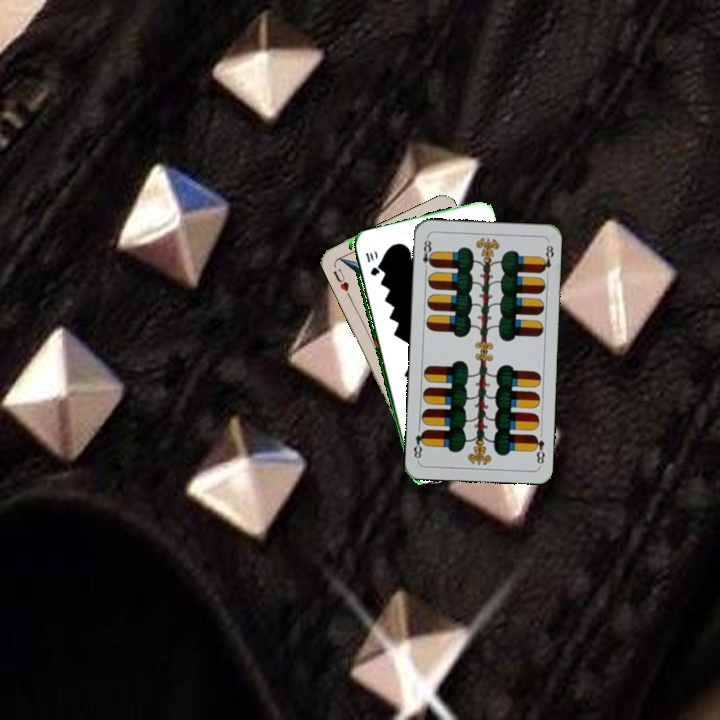E8: (418, 234, 436, 274), (529, 431, 547, 468)
G10: (361, 248, 380, 278)
HU: (329, 264, 353, 299)
